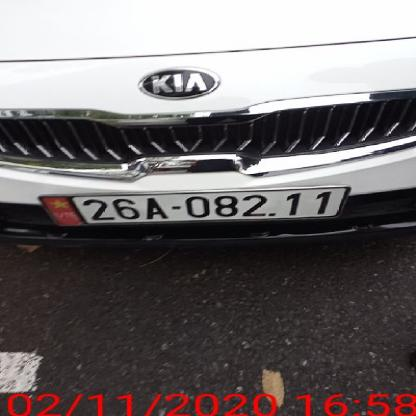biensoxe: (40, 189, 346, 238)
